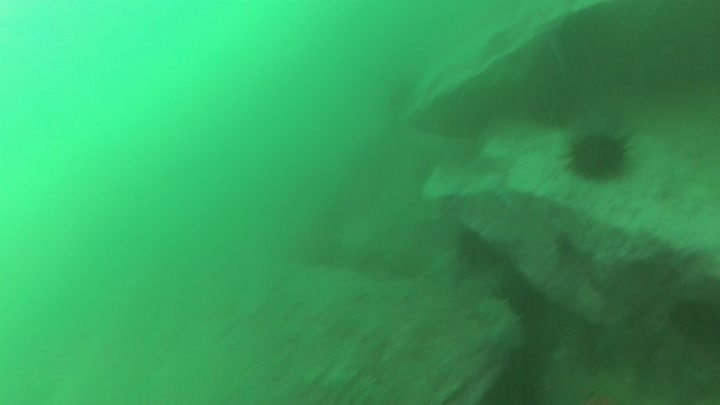echinus: (560, 125, 636, 184), (666, 297, 720, 352), (456, 228, 515, 274)
holothurian: (477, 295, 528, 355)
